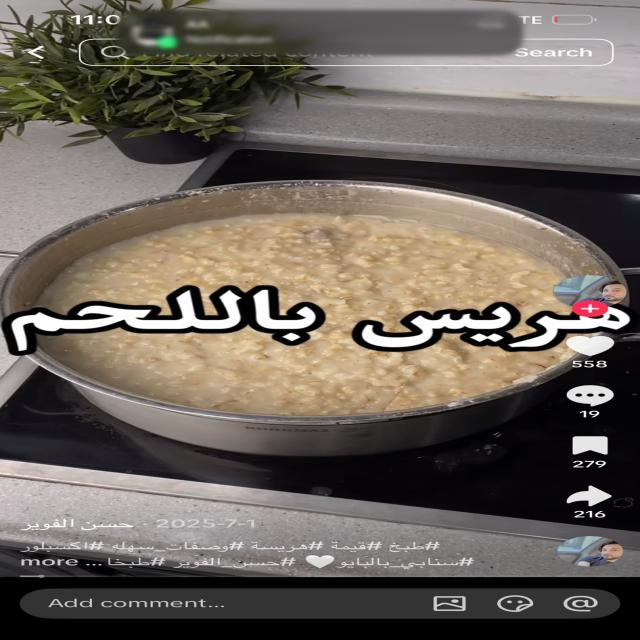Harees: (31, 199, 580, 409)
